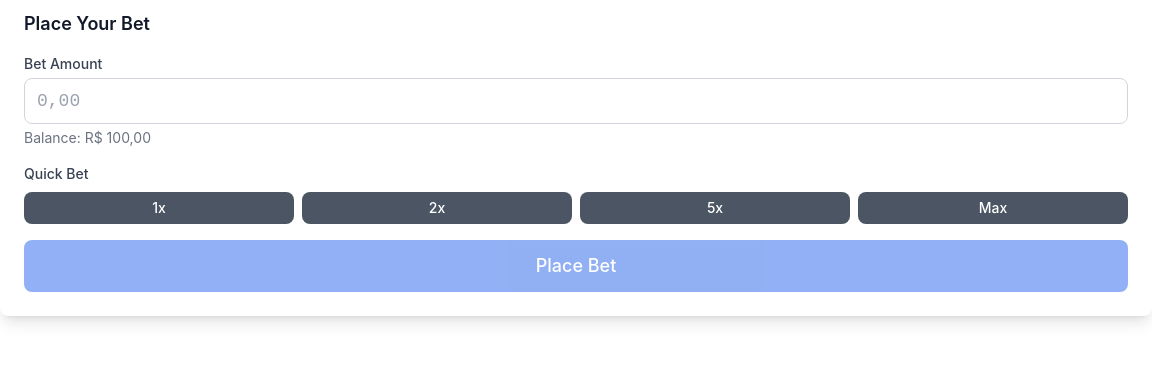
Test: BetForm - Preservation Tests (Task 1.5) › Requirement 3.1, 3.2: Validation messages display correctly › displays validation error for amount above maximum
Step 1. Type "1500,00" into the field named "Enter bet amount in reais" → (576, 101), box [24, 78, 1128, 124]
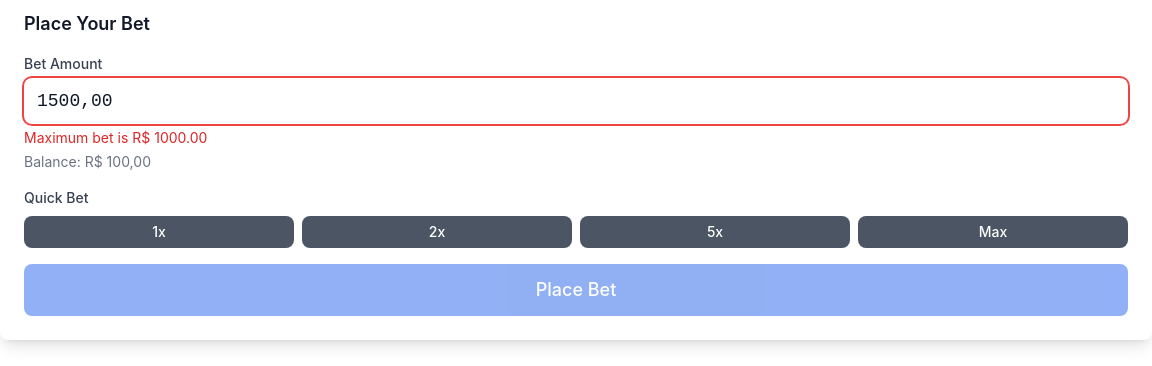
Expected: the button "Place Bet" is disabled, [24, 264, 1128, 316]
Expected: the text "Maximum bet is R$ 1000.00" is shown, [24, 129, 207, 146]
